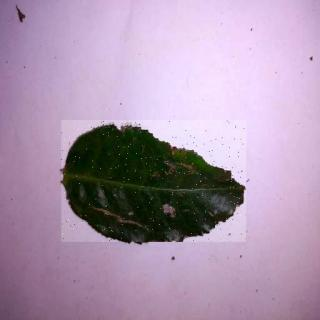Anthracnose: (63, 121, 248, 243)
